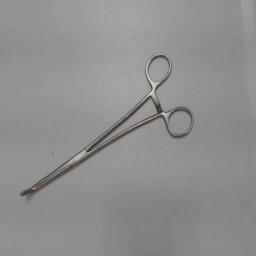Lahey Forceps: (15, 43, 197, 201)
